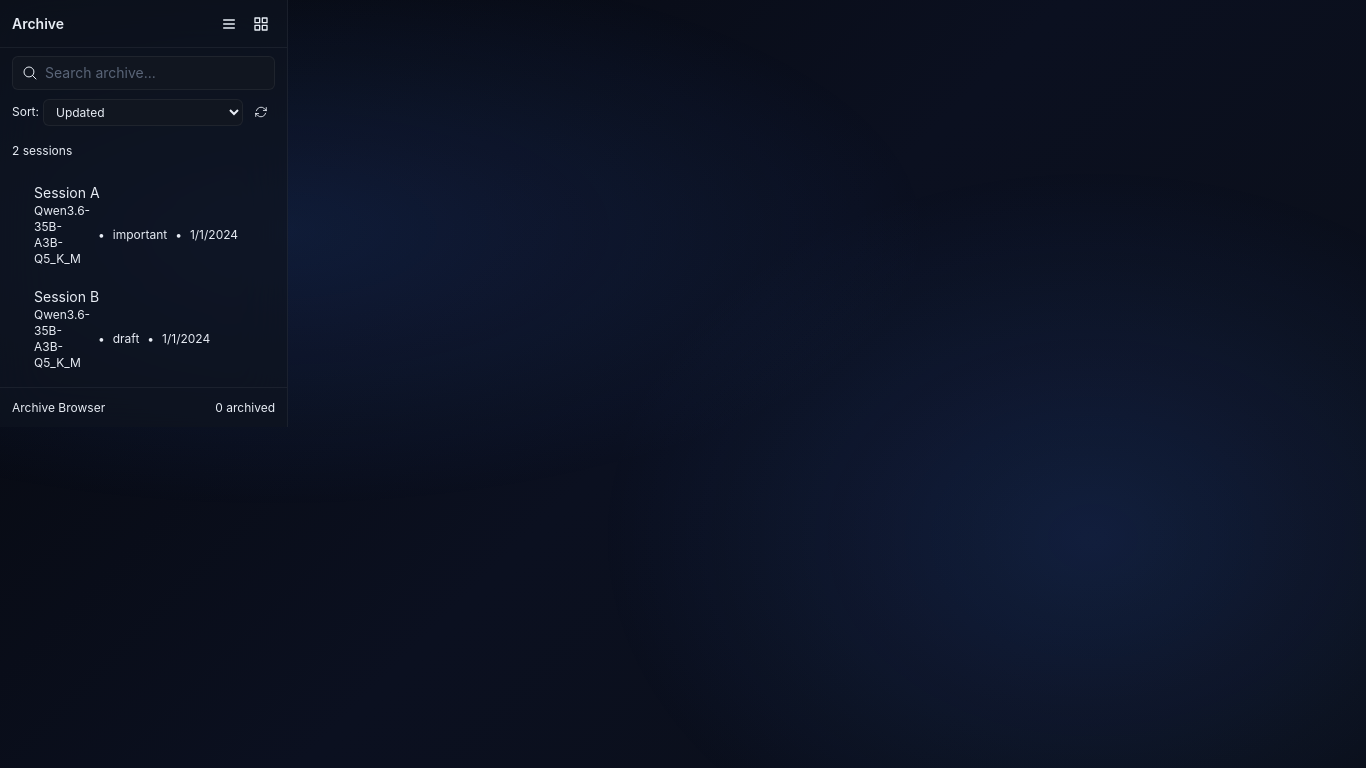
ArchiveBrowser › search › filters sessions by tag
The width and height of the screenshot is (1366, 768).
Type "important" into the field with placeholder "Search archive..." at (144, 73), box [12, 56, 275, 90]
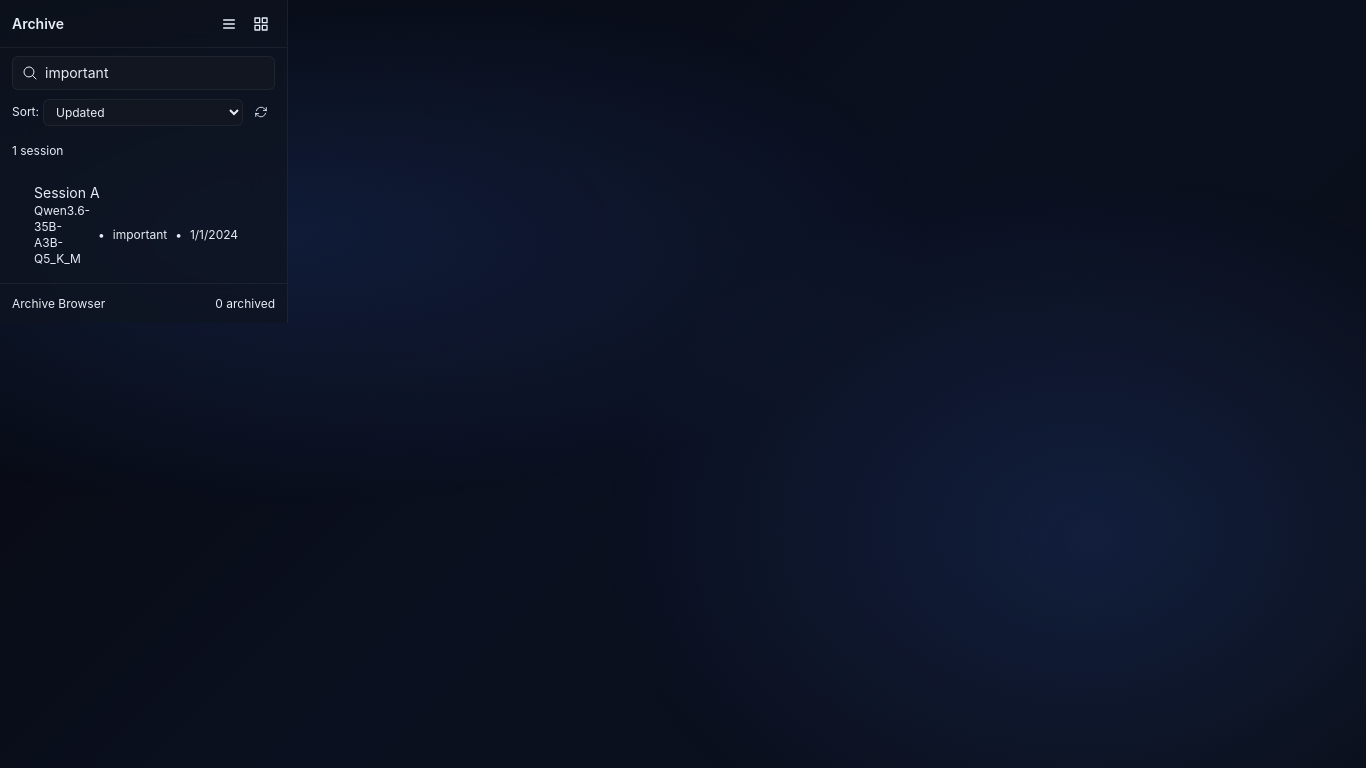
expect the text "Session A" is shown: met, box [34, 184, 100, 201]
expect the text "Session B" is gone: met
